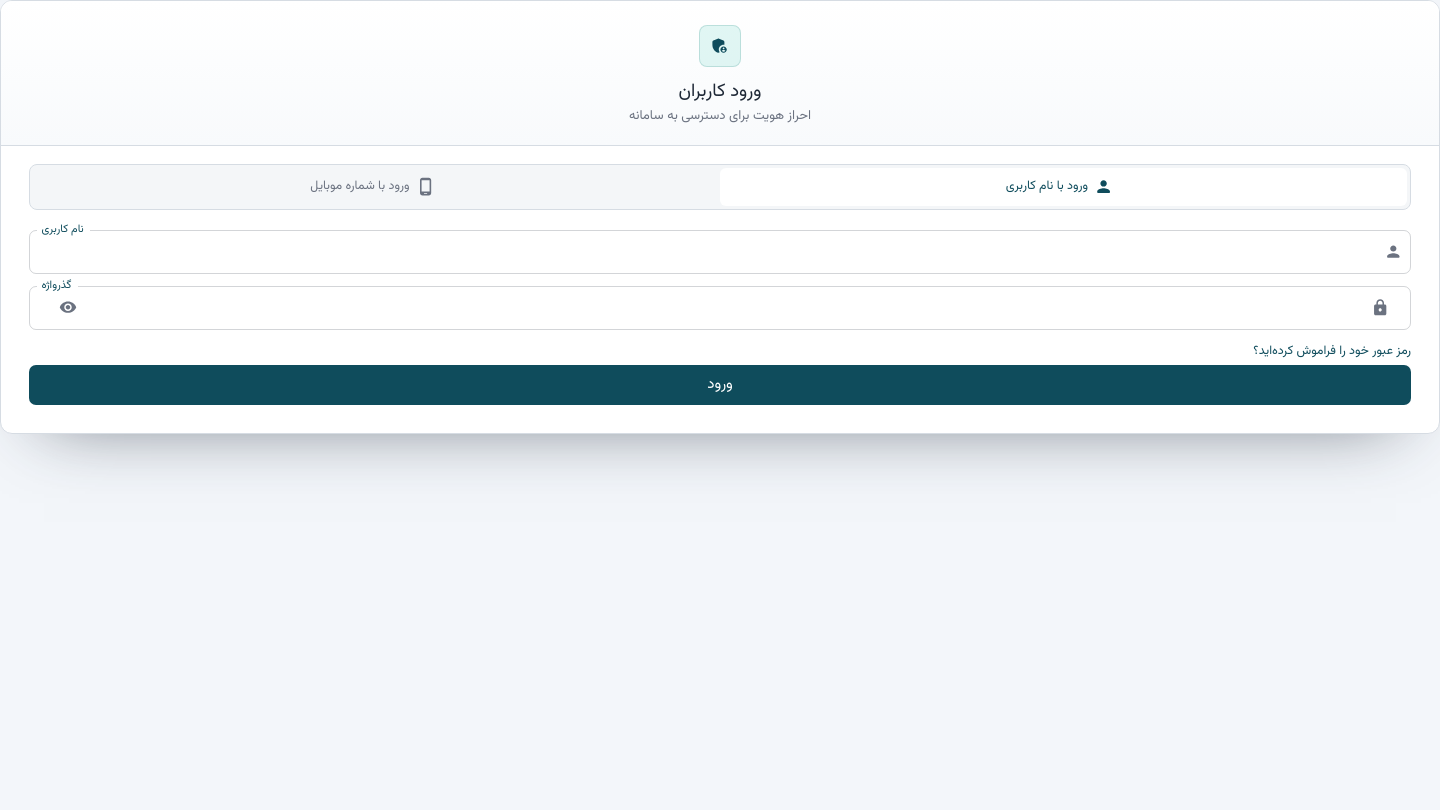
Test case: Login security validation › requires OTP after a valid password when 2FA is enabled and does not create a session
Step 1. Type "two-factor-user" into the field labelled "نام کاربری" → (714, 252), box [43,233,1384,271]
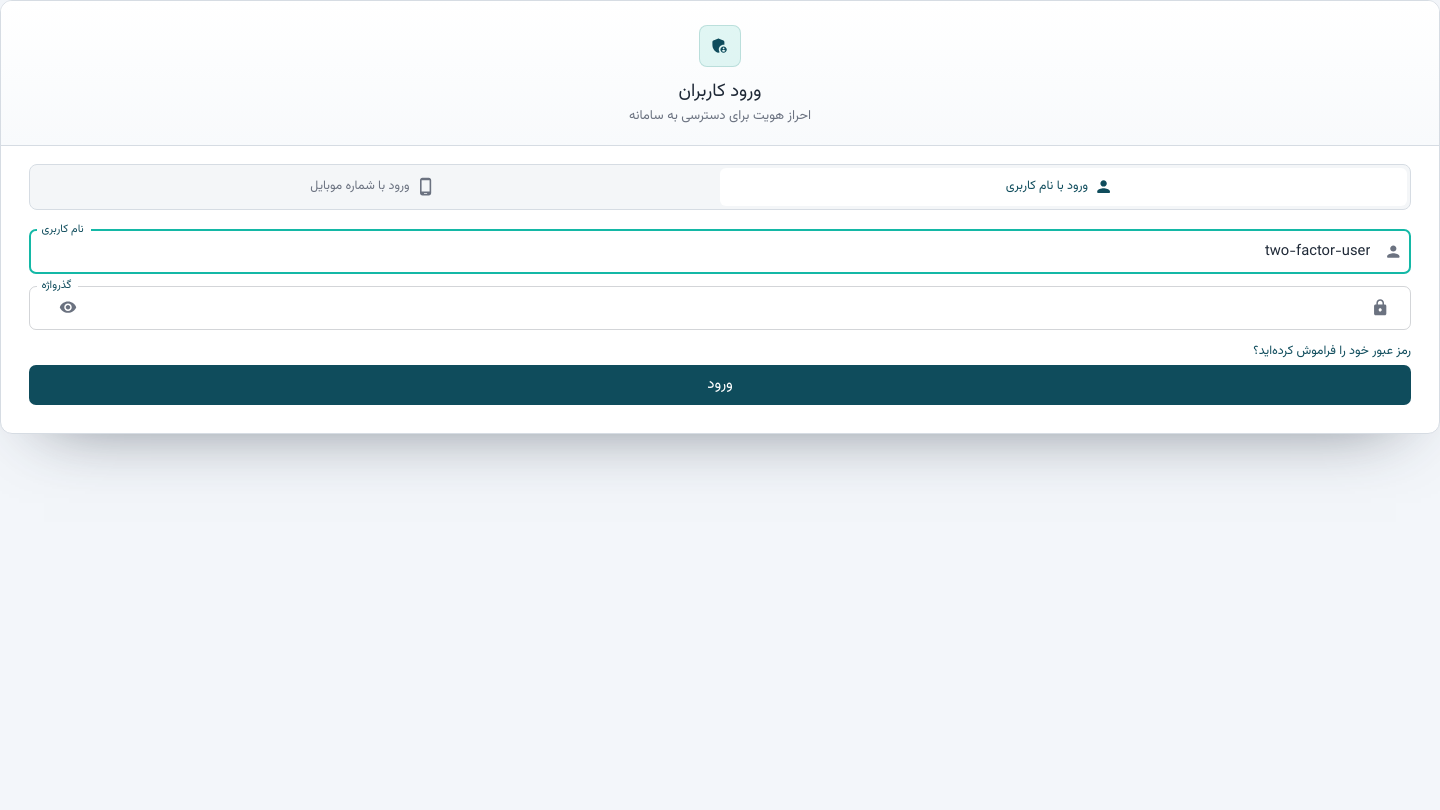
Step 2. Type "CorrectPassword" into the password field labelled "گذرواژه" → (722, 308), box [73,289,1371,327]
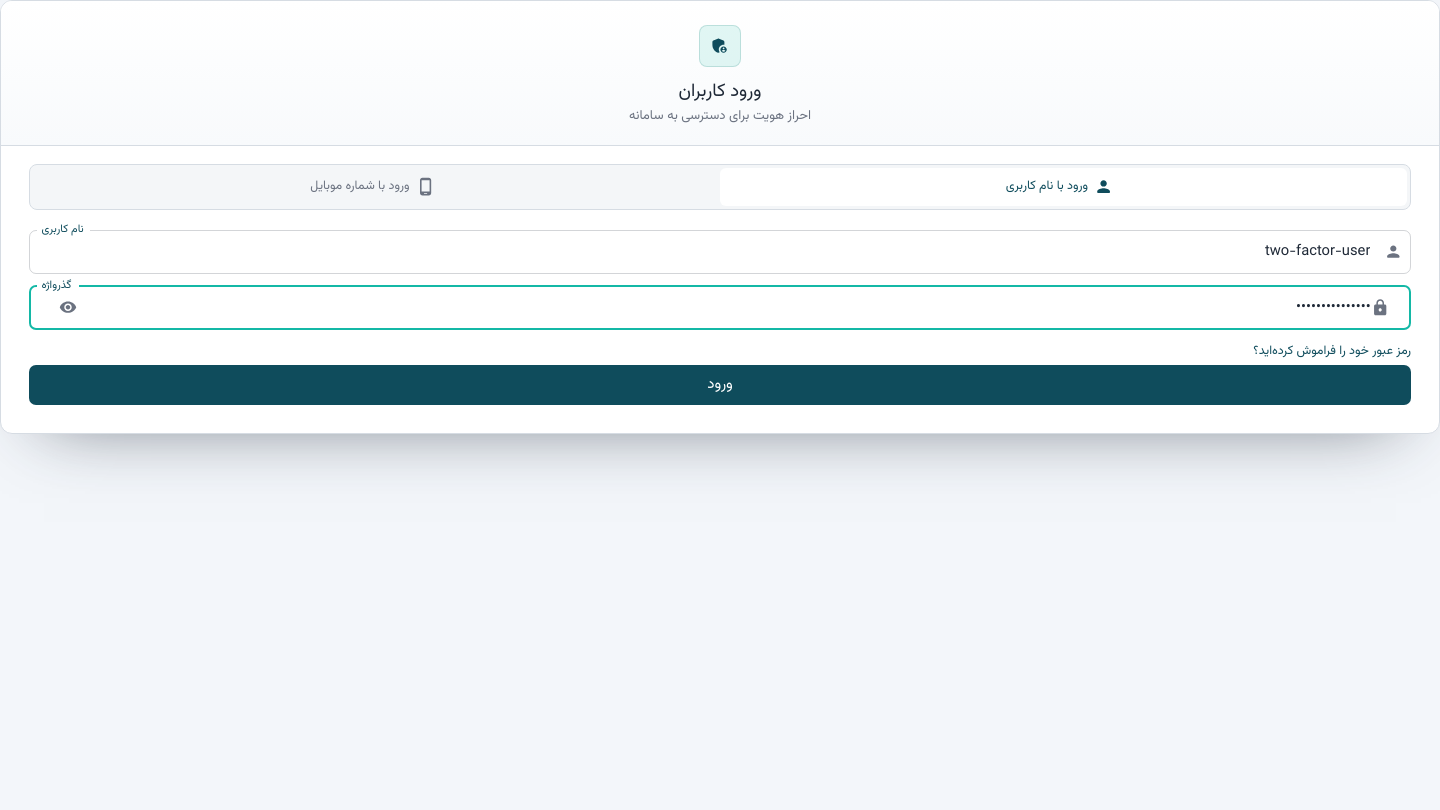
Step 3. Click the button "ورود" → (720, 384), box [29,364,1411,404]
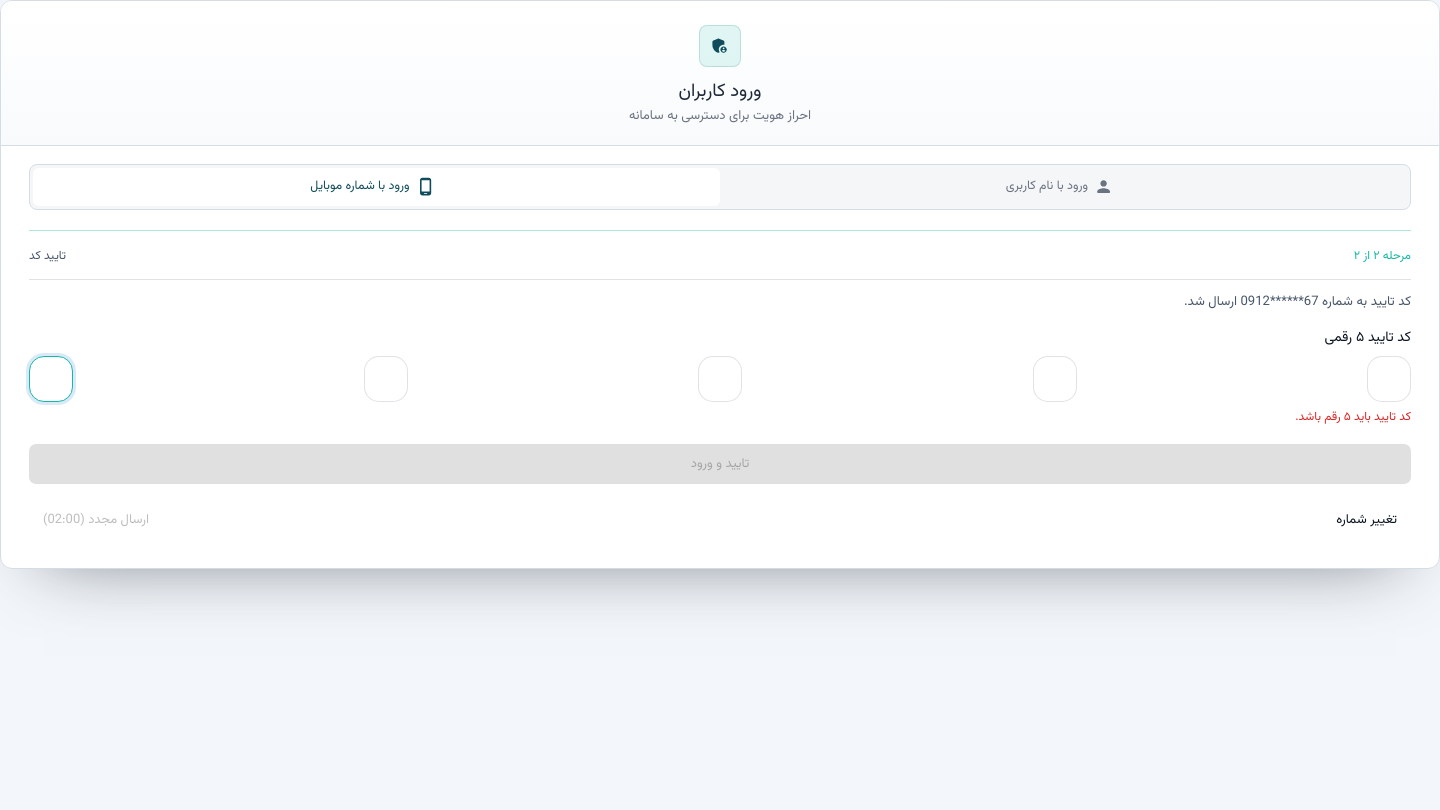
Result: the heading "کد تایید ۵ رقمی" is shown at [1325,327,1411,349]
Result: the text "0912******67" is shown at [1240,292,1319,312]
